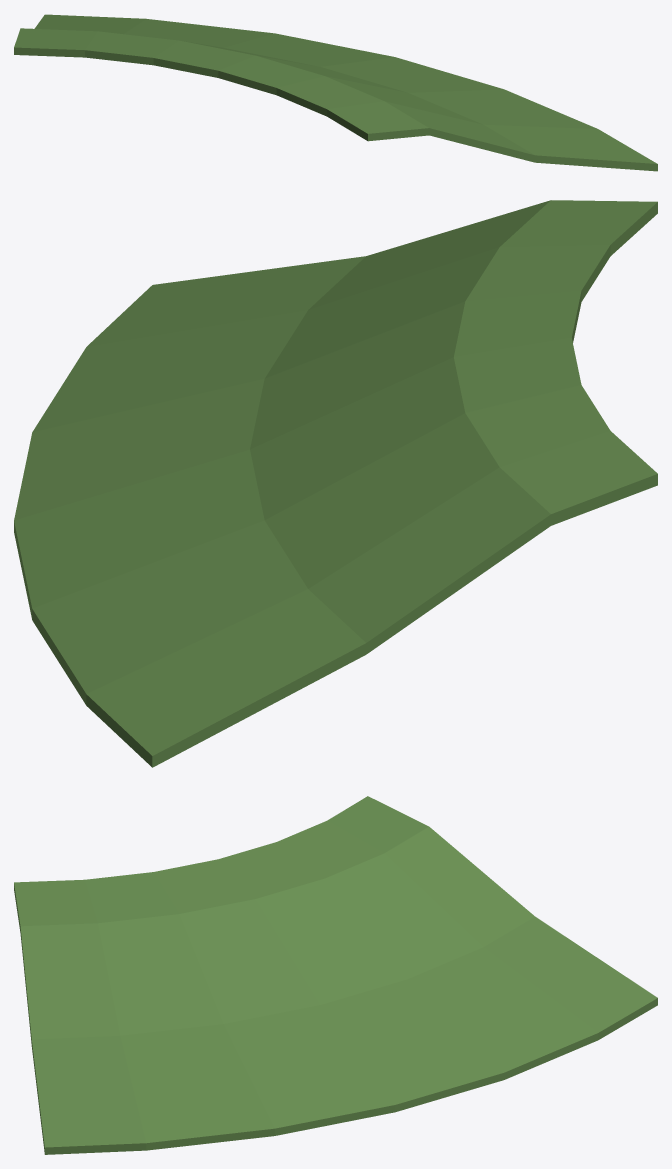
The picture shows the model from 3 angles, top to bottom: view 1: azimuth 30°, elevation 25°; view 2: azimuth 150°, elevation 25°; view 3: azimuth 270°, elevation 25°; orthographic projection. The views are drawn at different scales.
Visible parts, largest first — view 1: 外围草纸裙边_外60度角.001; view 2: 外围草纸裙边_外60度角.001; view 3: 外围草纸裙边_外60度角.001.
Boxes of the visible parts, <box> form: 外围草纸裙边_外60度角.001: <box>14,14,657,171</box>; 外围草纸裙边_外60度角.001: <box>14,200,657,767</box>; 外围草纸裙边_外60度角.001: <box>14,796,657,1154</box>.
Size of the model in its own units: 0.818 by 0.2 by 0.9456.
